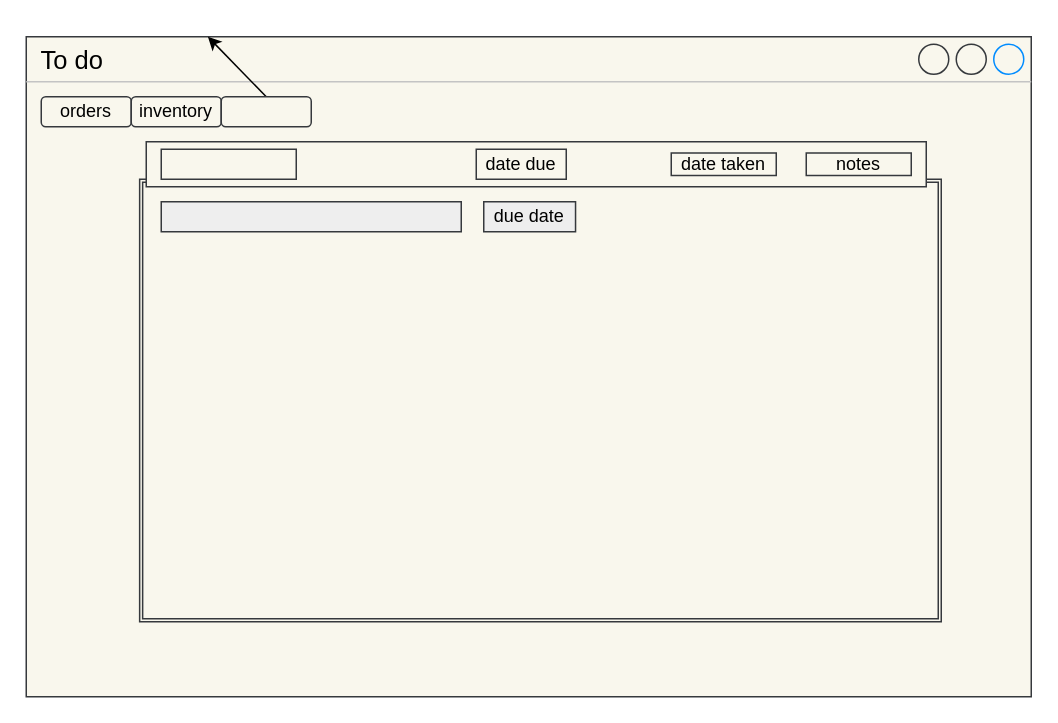
The diagram is 1058 pixels wide and 723 high, and some of its shapes have lost their labels. The centre of each missing label's shape, as x and y in pixels:
finances: point 265,111
order: point 310,216
task: point 228,163
